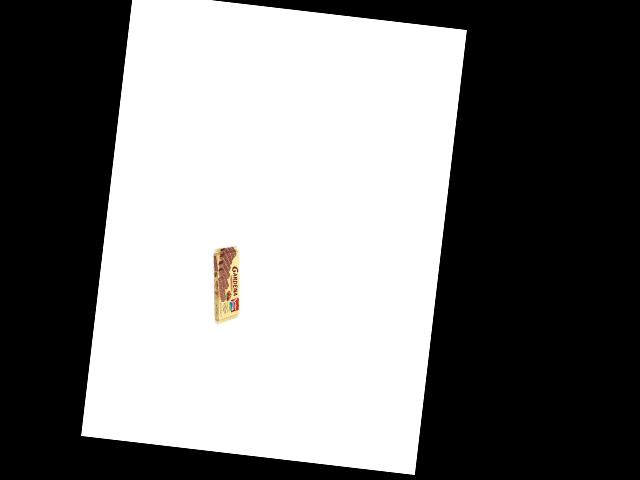chocolate: (208, 240, 248, 329)
